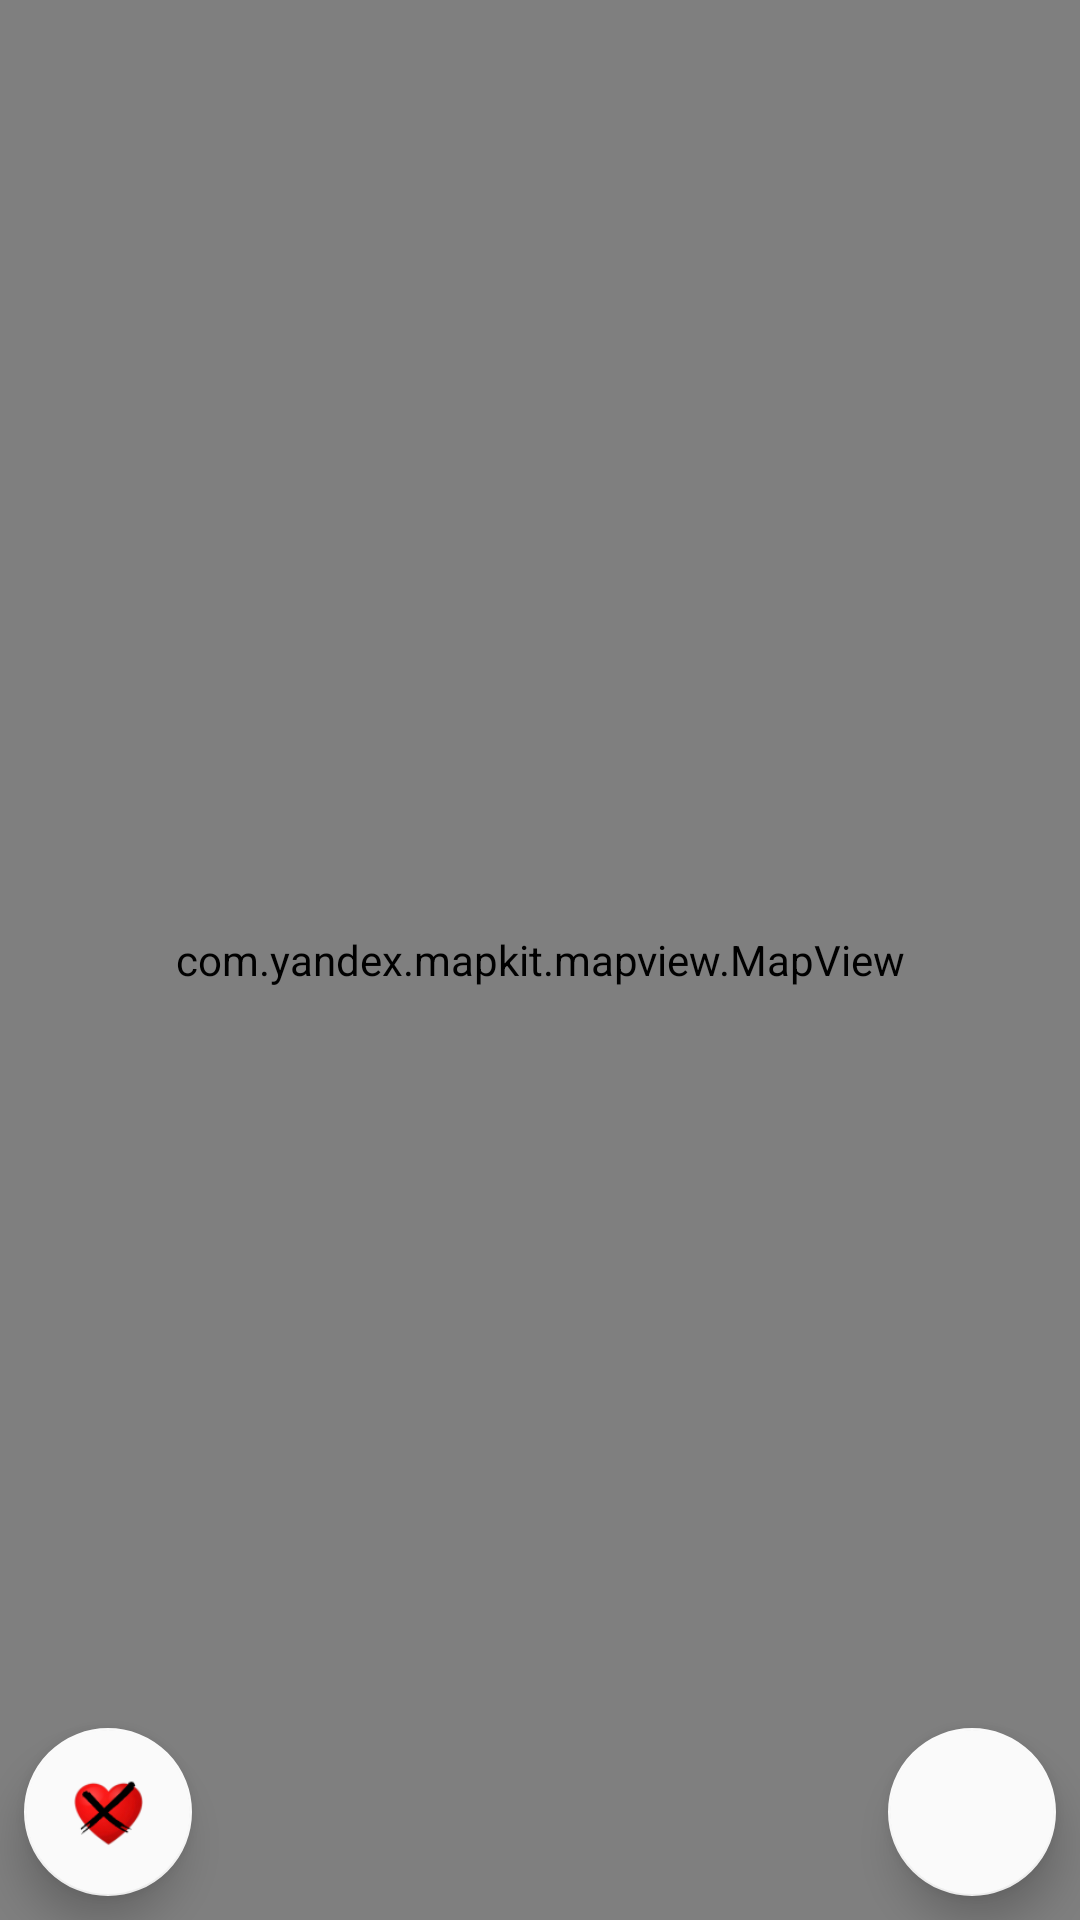

Icons on this 1080px x 1920px Android screen, each with the point to tap as point (x, y):
delete heart: point (108, 1812)
